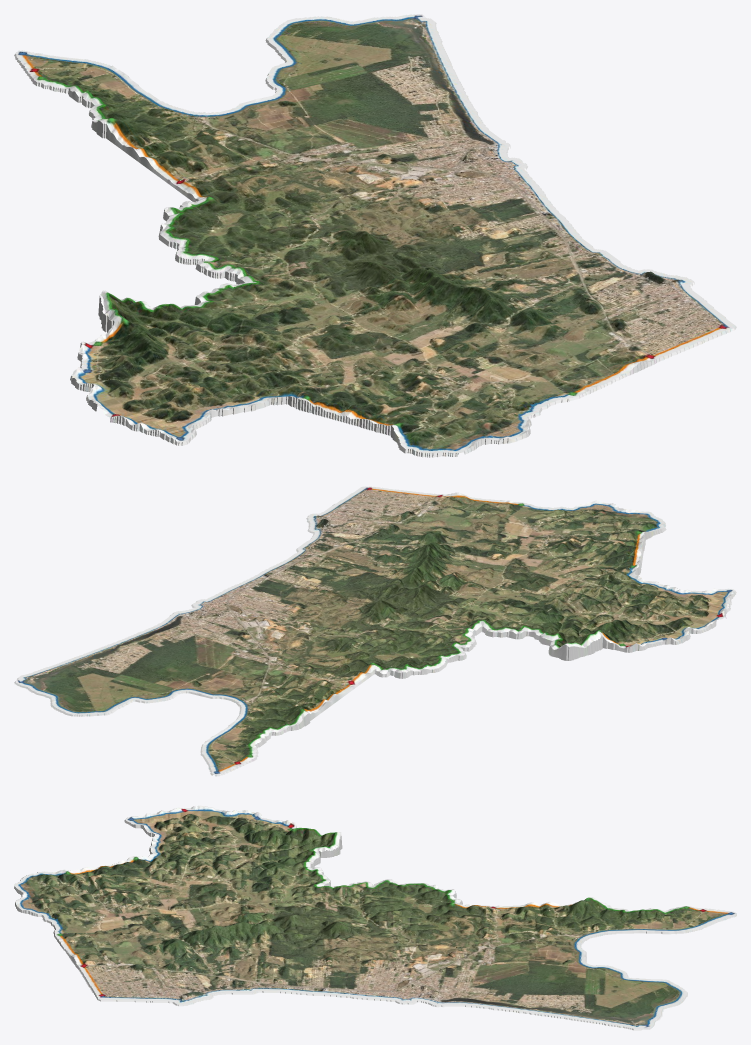
3 renders of one model, top to bottom at view 1: azimuth 30°, elevation 25°; view 2: azimuth 150°, elevation 25°; view 3: azimuth 270°, elevation 25°, orthographic. The views are drawn at different scales.
Bounding box in the file's own units: 0.9999 × 0.0334 × 1.39.
Materials: 1 (1 with a texture image).
